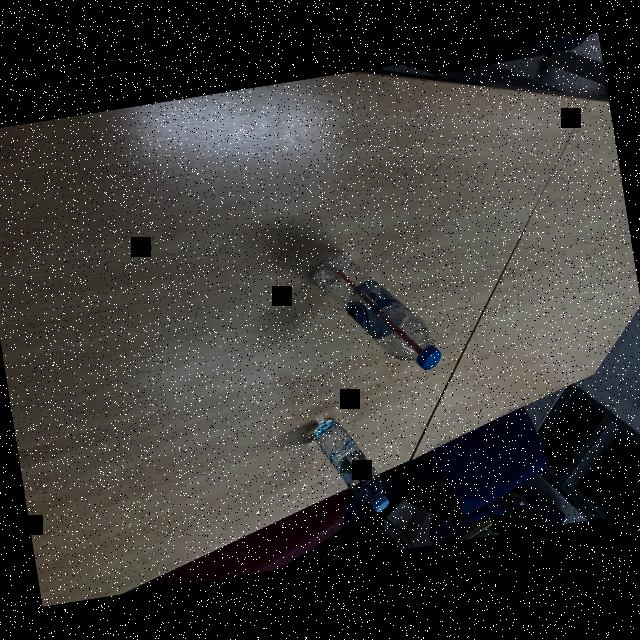plastic_bottle: (308, 238, 443, 388), (308, 408, 390, 522)
